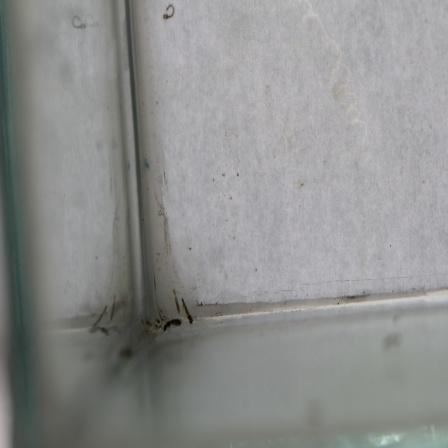Jentik-Nyamuk: (161, 2, 177, 24)
